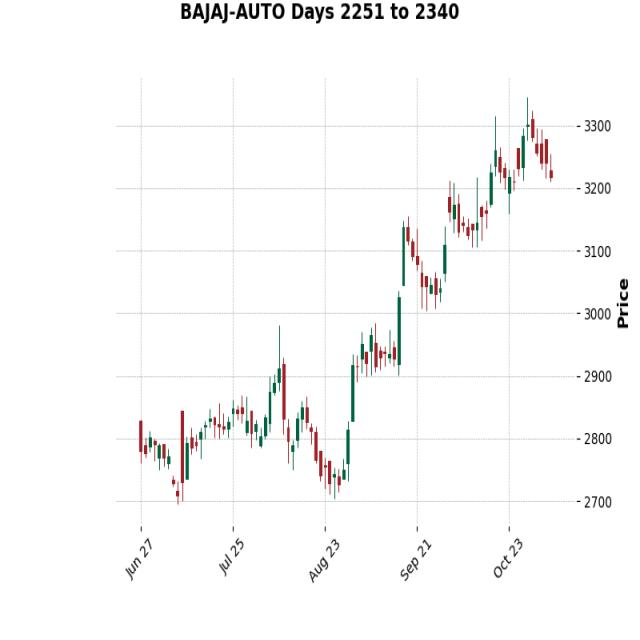Cup and Handle: (269, 308, 395, 511)
